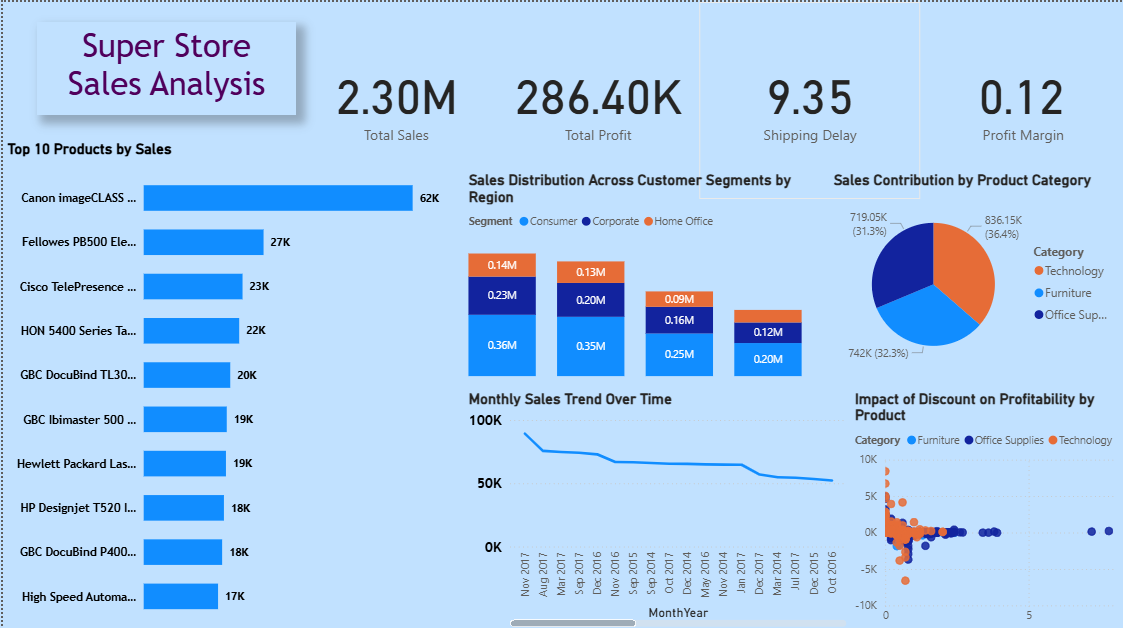

What the dashboard file says about the page in this screenshot:
{"tool":"powerbi","page":{"name":"Page 1","canvas":[1280,720],"ordinal":0},"visuals":[{"type":"card","fields":{"Values":["Sum(Superstore.Sales)"]},"box":[335,0,230.9,225.2],"z":0},{"type":"card","fields":{"Values":["Sum(Superstore.Profit)"]},"box":[565.9,0,229.5,225.2],"z":1000},{"type":"card","fields":{"Values":["Avg(Superstore.Shipping Delay)"]},"box":[795.4,0,253.7,225.2],"z":2000},{"type":"card","fields":{"Values":["Avg(Superstore.Profit Margin)"]},"box":[1049.1,0,230.9,225.2],"z":3000},{"type":"textbox","box":[38.3,23.3,296.7,106.7],"z":4000},{"type":"clusteredBarChart","title":"Top 10 Products by Sales","fields":{"Y":["Sum(Superstore.Sales)"],"Category":["Superstore.Product Name"]},"box":[0,156.7,513.3,563.3],"z":5000},{"type":"columnChart","title":"Sales Distribution Across Customer Segments by Region","fields":{"Category":["Superstore.Region"],"Series":["Superstore.Segment"],"Y":["Sum(Superstore.Sales)"]},"box":[527.4,192.4,394.8,240.9],"z":6000},{"type":"lineChart","title":"Monthly Sales Trend Over Time","fields":{"Y":["Sum(Superstore.Sales)"],"Category":["Superstore.MonthYear"]},"box":[527.4,443.3,441.9,276.5],"z":7000},{"type":"pieChart","title":"Sales Contribution by Product Category","fields":{"Category":["Superstore.Category"],"Y":["Sum(Superstore.Sales)"]},"box":[943.6,192.4,336.4,240.9],"z":8000},{"type":"scatterChart","title":"Impact of Discount on Profitability by Product","fields":{"Category":["Superstore.Sales"],"Y":["Sum(Superstore.Profit)"],"X":["Sum(Superstore.Discount)"],"Series":["Superstore.Category"]},"box":[969,443,311,277],"z":9000}]}

Visuals, with their boxes in screenshot pixels (x1, y1, x2, y2), scaled from the page's 1280x720 canvas onto the 1123x628 screenshot:
card - Sum(Superstore.Sales): left=294, top=0, right=496, bottom=196
card - Sum(Superstore.Profit): left=496, top=0, right=698, bottom=196
card - Avg(Superstore.Shipping Delay): left=698, top=0, right=920, bottom=196
card - Avg(Superstore.Profit Margin): left=920, top=0, right=1122, bottom=196
textbox: left=34, top=20, right=294, bottom=113
"Top 10 Products by Sales" clusteredBarChart: left=0, top=137, right=450, bottom=627
"Sales Distribution Across Customer Segments by Region" columnChart: left=463, top=168, right=809, bottom=378
"Monthly Sales Trend Over Time" lineChart: left=463, top=387, right=850, bottom=627
"Sales Contribution by Product Category" pieChart: left=828, top=168, right=1122, bottom=378
"Impact of Discount on Profitability by Product" scatterChart: left=850, top=386, right=1122, bottom=627
